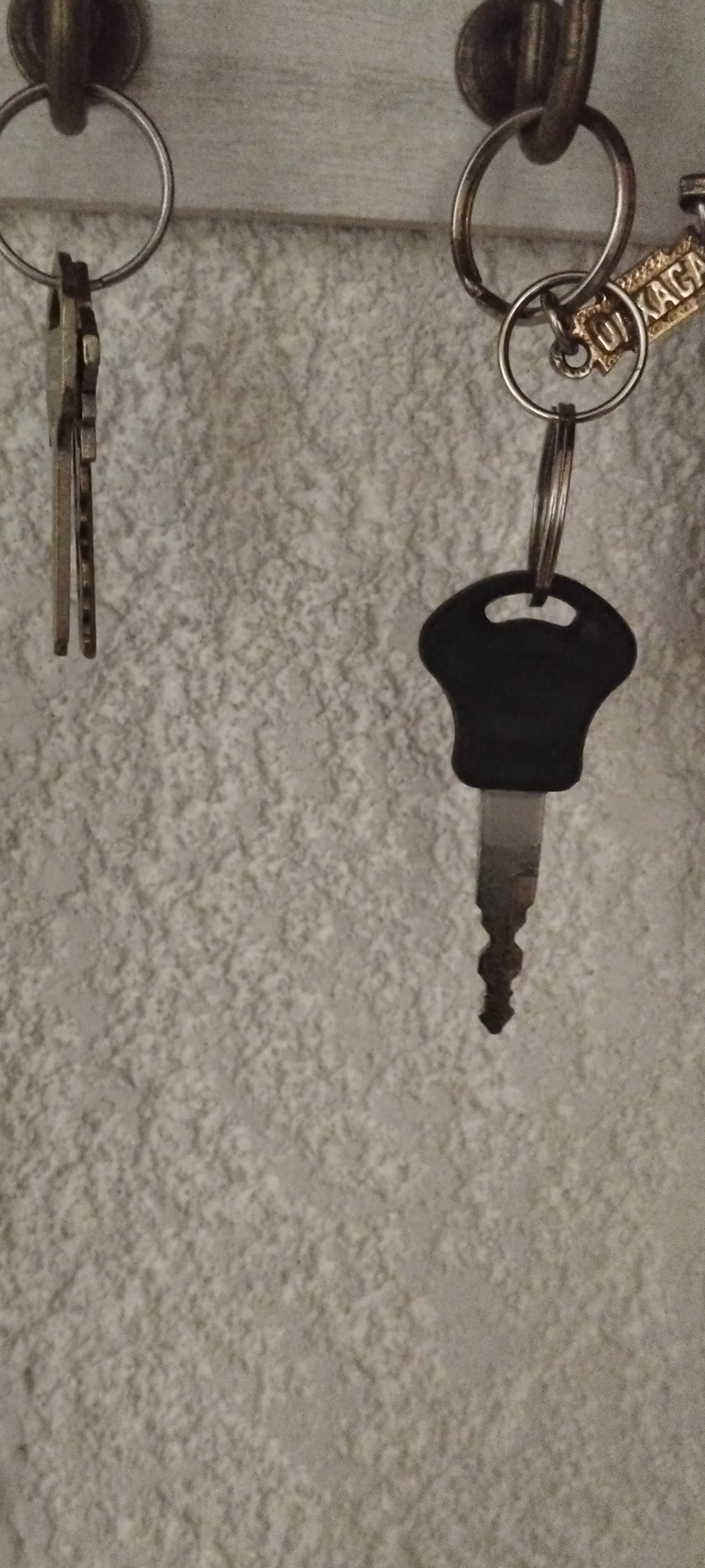llaves: (345, 102, 694, 1072)
